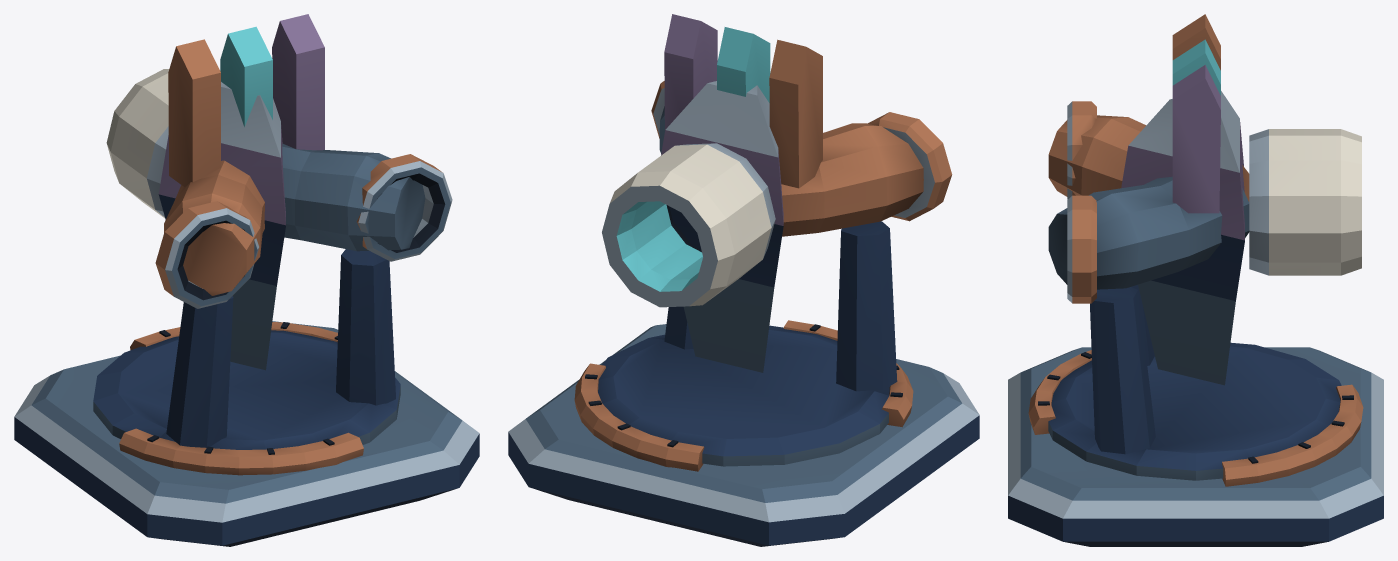
The model's file is primaryLogicGate.glb.
3 renders of one model, left to right at view 1: azimuth 30°, elevation 25°; view 2: azimuth 150°, elevation 25°; view 3: azimuth 270°, elevation 25°, orthographic.
Visible parts, largest first — view 1: primaryLogicGate; view 2: primaryLogicGate; view 3: primaryLogicGate.
Part boxes in pixels (x1,y1,x2,y2): primaryLogicGate: (14, 14, 479, 546); primaryLogicGate: (508, 14, 979, 546); primaryLogicGate: (1008, 14, 1383, 546).
Bounding box in the file's own units: 0.98 × 1.22 × 0.96.
